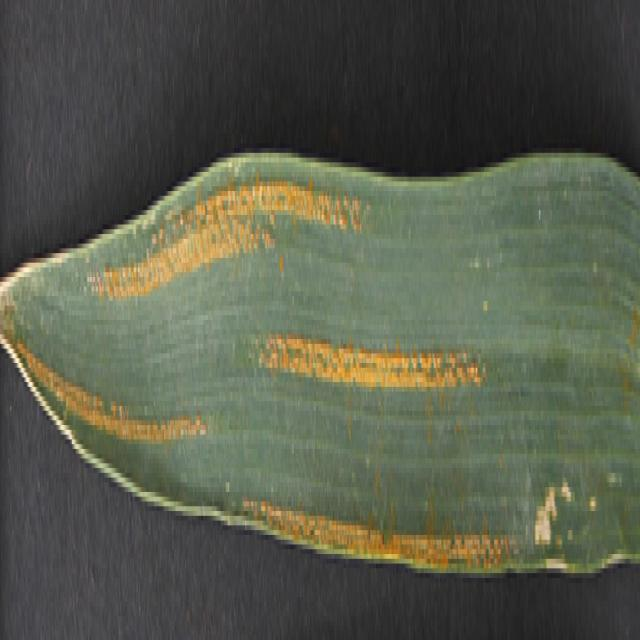leaf rust: (20, 138, 514, 559)
